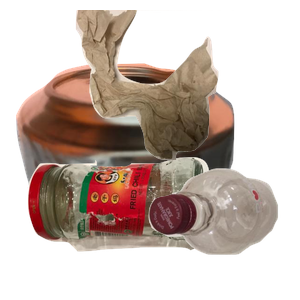glass: (25, 155, 227, 300)
metal: (13, 61, 240, 241)
plastic: (146, 166, 300, 300)
trash: (73, 10, 300, 163)
